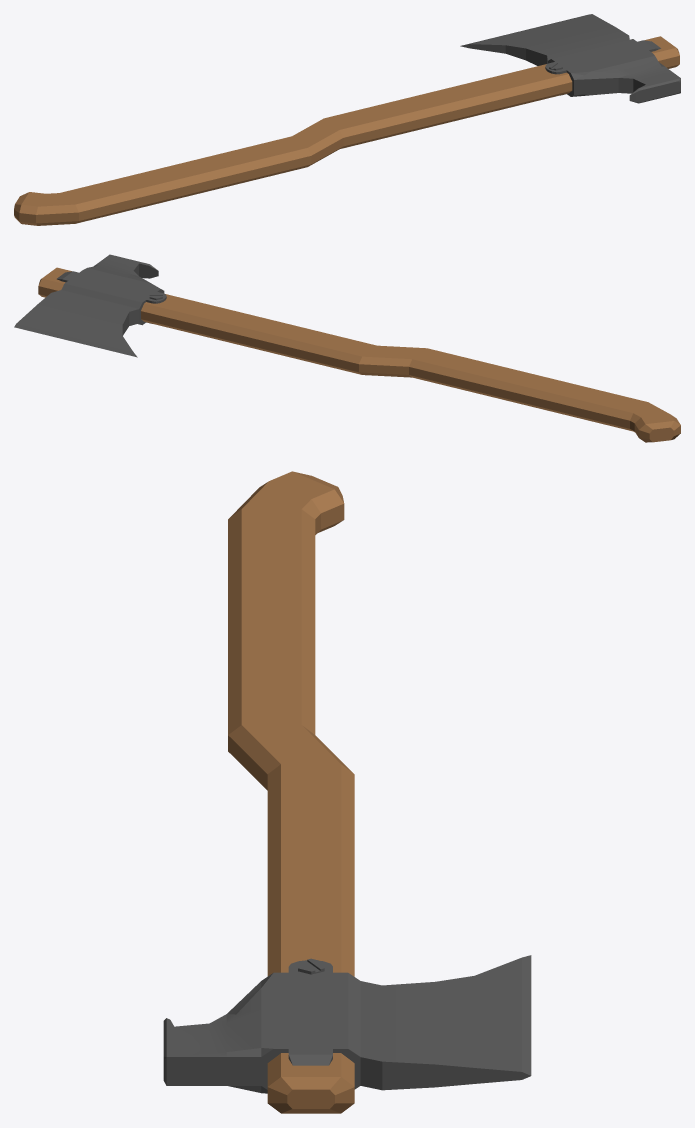
The model's file is Aks.fbx.
3 views of the same model, one above another, from view 1: azimuth 30°, elevation 25°; view 2: azimuth 150°, elevation 25°; view 3: azimuth 270°, elevation 25° (orthographic). The views are drawn at different scales.
Parts seen in each view (by area): view 1: Cube_Cylinder_Cube_3_Cube_2_Cube_1; view 2: Cube_Cylinder_Cube_3_Cube_2_Cube_1; view 3: Cube_Cylinder_Cube_3_Cube_2_Cube_1.
Boxes of the visible parts, x1,y1,x2,y2 form: Cube_Cylinder_Cube_3_Cube_2_Cube_1: [14, 14, 680, 225]; Cube_Cylinder_Cube_3_Cube_2_Cube_1: [14, 254, 680, 442]; Cube_Cylinder_Cube_3_Cube_2_Cube_1: [163, 471, 531, 1113].
Size of the model in its own units: 242 by 9.42 by 61.26.
